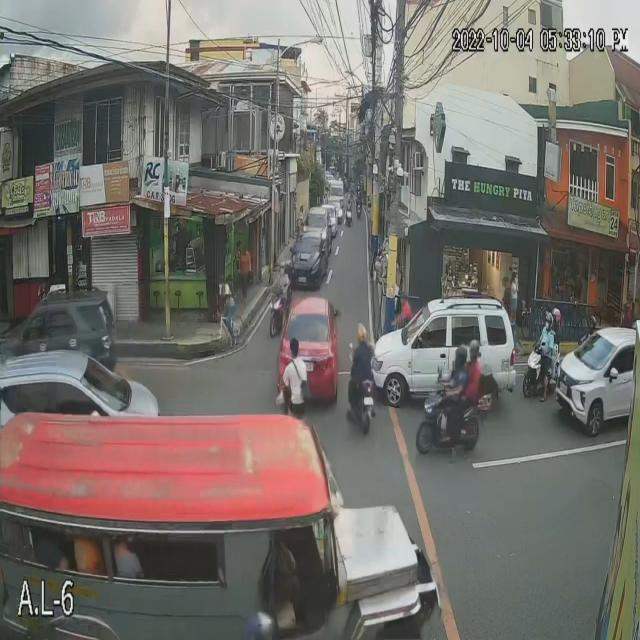full: (455, 342, 468, 370), (469, 336, 481, 362)
half: (355, 322, 367, 343), (542, 308, 554, 328)
